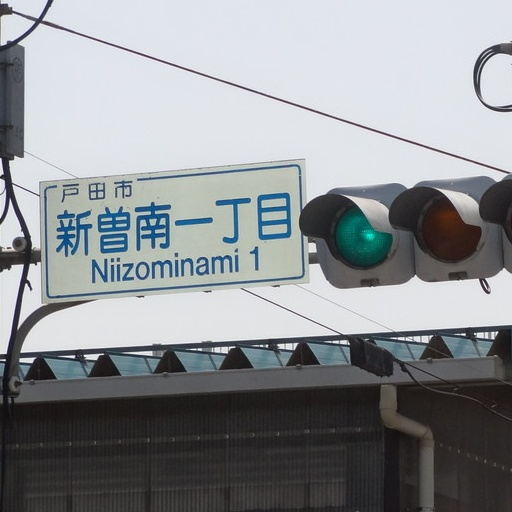Traffic_Signal_Blue: (304, 182, 509, 279)
